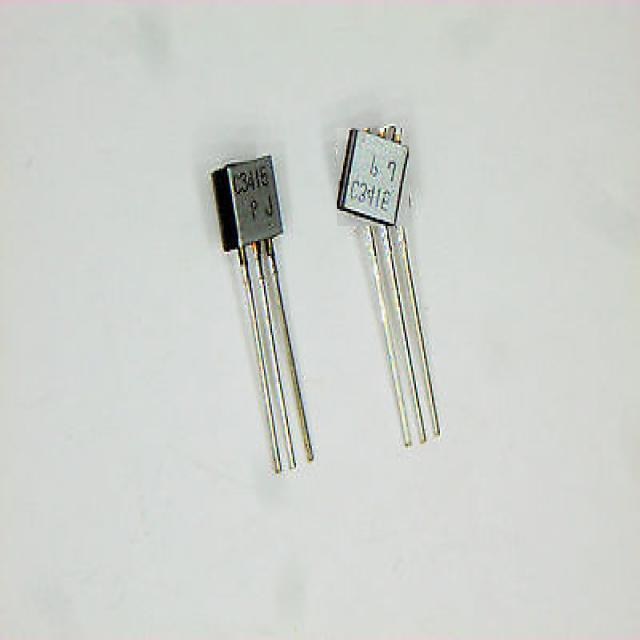Transistor: (323, 102, 472, 466), (195, 133, 342, 484)
